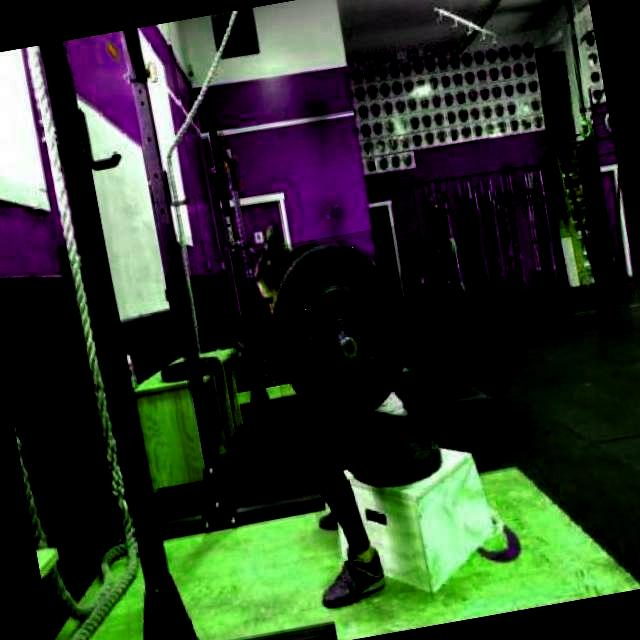barbell: (256, 226, 427, 435)
